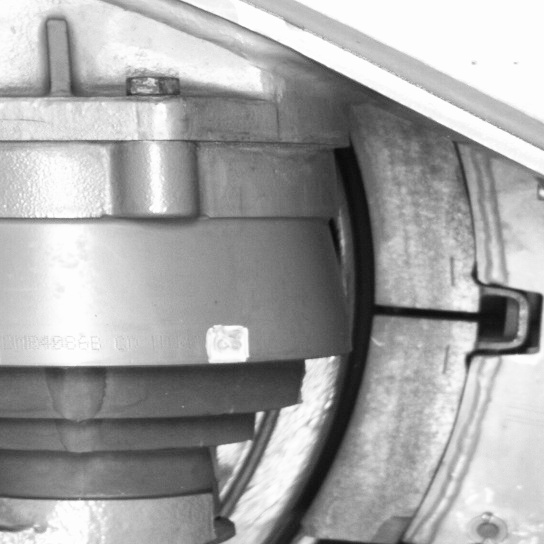KnifeSwitch: (260, 142, 490, 542)
